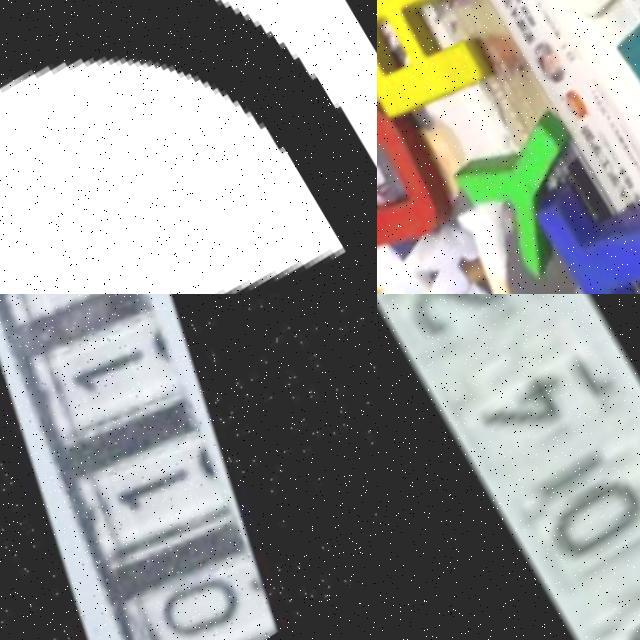0: (537, 466, 640, 584), (140, 550, 265, 640)
1: (44, 309, 173, 431), (93, 431, 218, 548)
2: (390, 294, 519, 356)
4: (465, 347, 599, 471)
D: (0, 0, 377, 294)
O: (377, 82, 465, 264)
R: (377, 0, 499, 125)
T: (532, 143, 640, 294)
Y: (444, 96, 626, 284)
